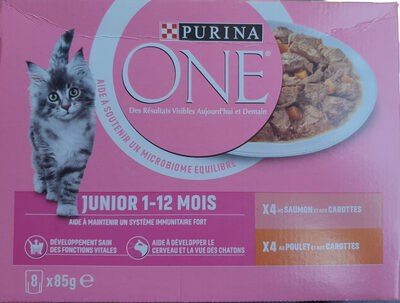junior: (20, 15, 380, 288)
